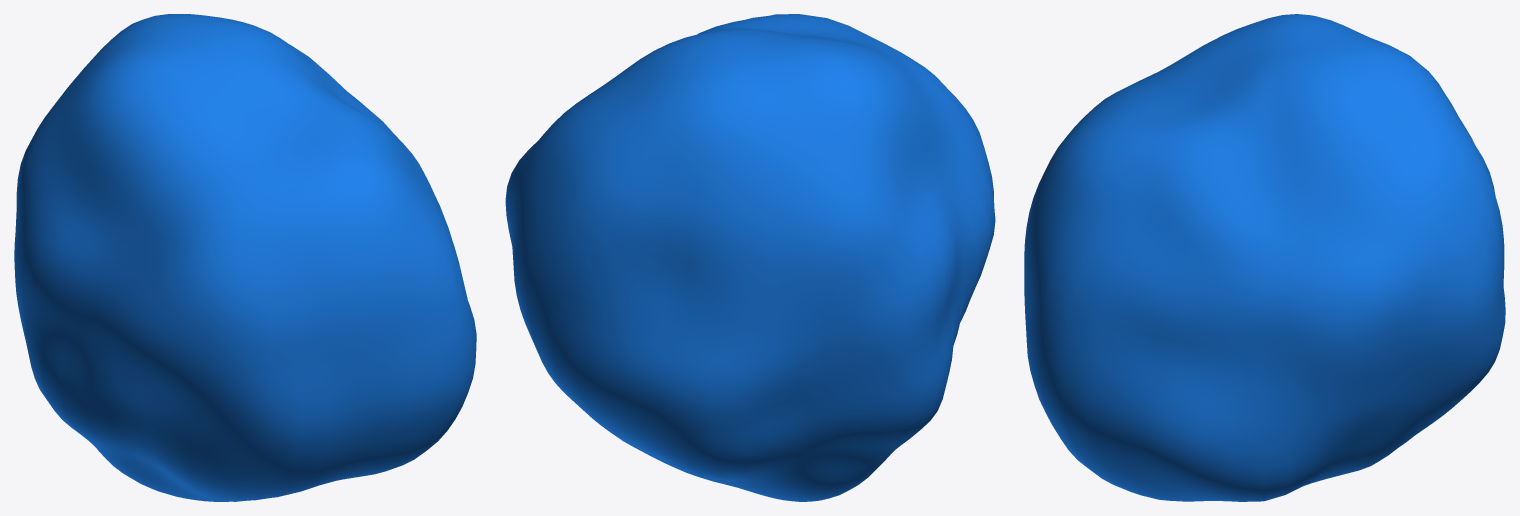
The model's file is warped blue ball.glb.
3 views of the same model, side by side, from view 1: azimuth 30°, elevation 25°; view 2: azimuth 150°, elevation 25°; view 3: azimuth 270°, elevation 25° (orthographic). The views are drawn at different scales.
Parts seen in each view (by area): view 1: Sphere; view 2: Sphere; view 3: Sphere.
Boxes of the visible parts, x1,y1,x2,y2 form: Sphere: (14, 14, 476, 501); Sphere: (505, 14, 995, 501); Sphere: (1024, 14, 1505, 501).
Size of the model in its own units: 2.8 by 3 by 3.01.
